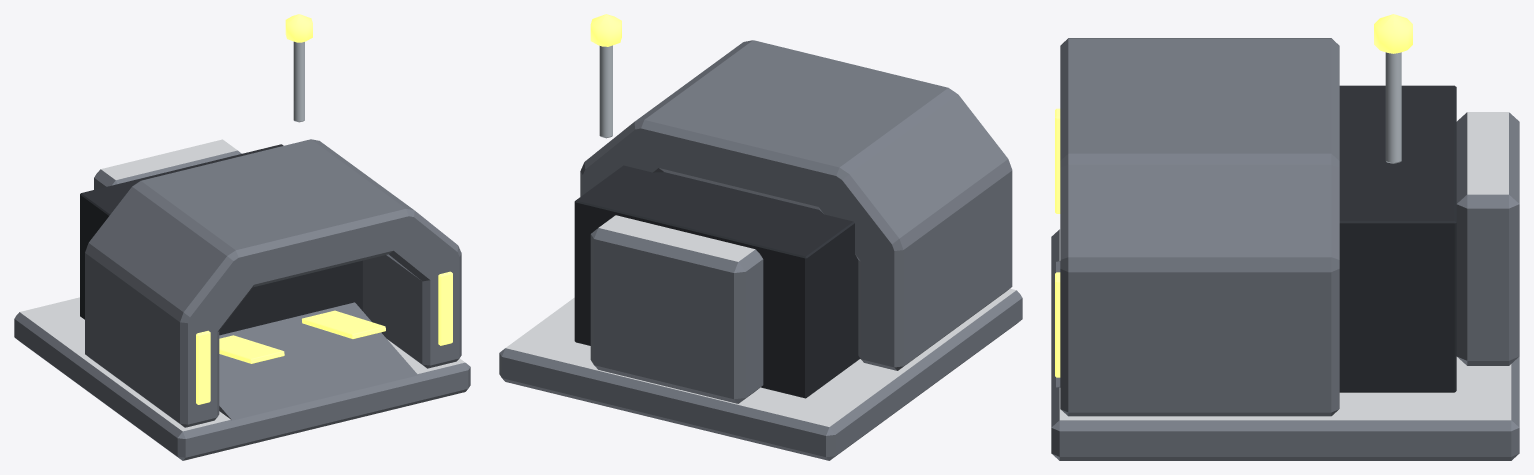
File: R4X_GroundDroneDeployer_LOD1.fbx
3 renders of one model, left to right at view 1: azimuth 30°, elevation 25°; view 2: azimuth 150°, elevation 25°; view 3: azimuth 270°, elevation 25°, orthographic. The views are drawn at different scales.
Visible parts, largest first — view 1: R4X_GroundDroneDeployer_LOD1; view 2: R4X_GroundDroneDeployer_LOD1; view 3: R4X_GroundDroneDeployer_LOD1.
Part boxes in pixels (box(x1,y1,x2,y2)): R4X_GroundDroneDeployer_LOD1: box(14, 14, 470, 460); R4X_GroundDroneDeployer_LOD1: box(499, 14, 1022, 460); R4X_GroundDroneDeployer_LOD1: box(1051, 14, 1519, 460).
Bounding box in the file's own units: 0.52 × 0.51 × 0.52.
